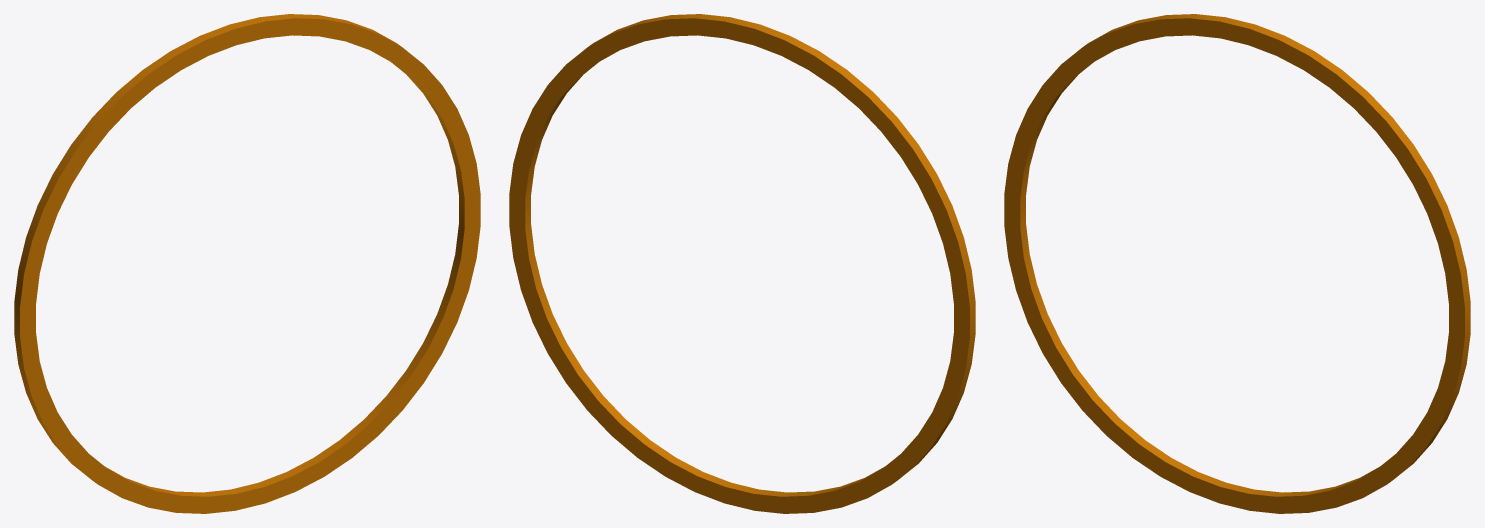
Rendered from Ring_Two.fbx.
The picture shows the model from 3 angles, left to right: view 1: azimuth 30°, elevation 25°; view 2: azimuth 150°, elevation 25°; view 3: azimuth 330°, elevation 25°; orthographic projection.
Parts seen in each view (by area): view 1: Ring_Two; view 2: Ring_Two; view 3: Ring_Two.
Boxes of the visible parts, box(x1,y1,x2,y2) form: Ring_Two: box(14, 14, 480, 513); Ring_Two: box(509, 14, 975, 513); Ring_Two: box(1004, 14, 1470, 513).
Size of the model in its own units: 137 by 3 by 137.
